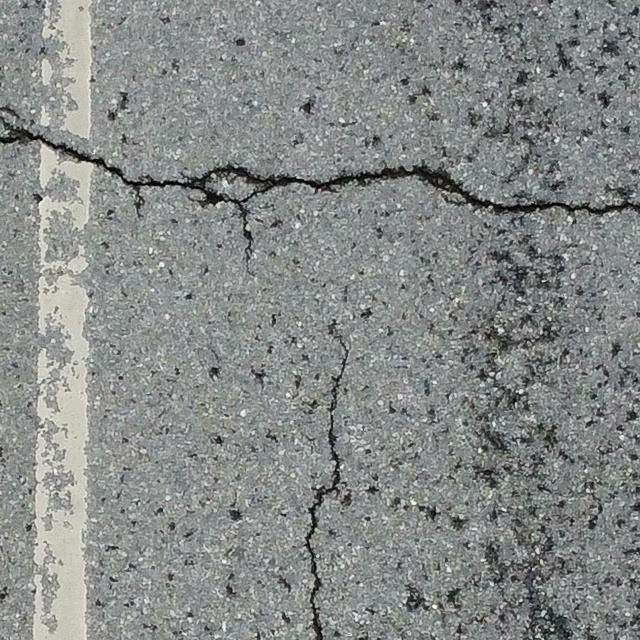LongitudinalCrack: (308, 322, 352, 640)
TransverseCrack: (1, 116, 640, 245)
